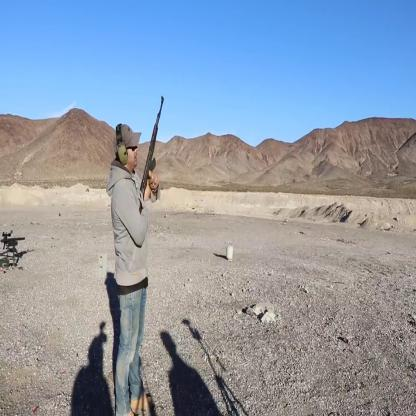long weapon: (134, 83, 176, 232), (0, 223, 30, 266)
